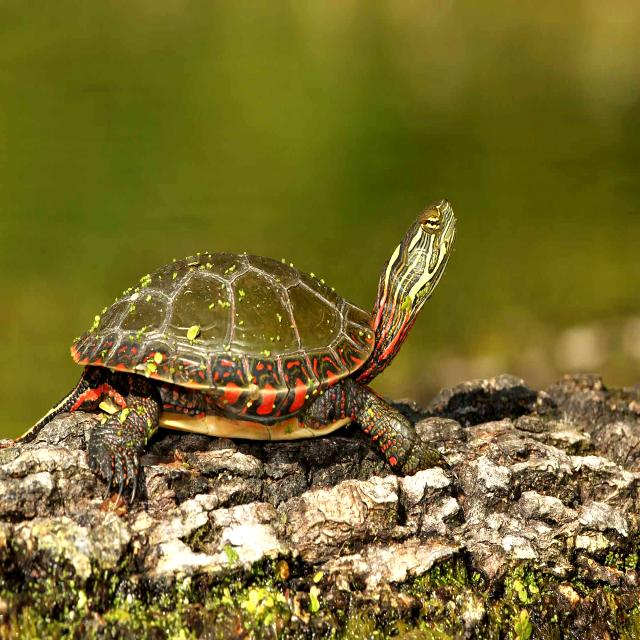Sea turtle: (42, 200, 477, 485)
